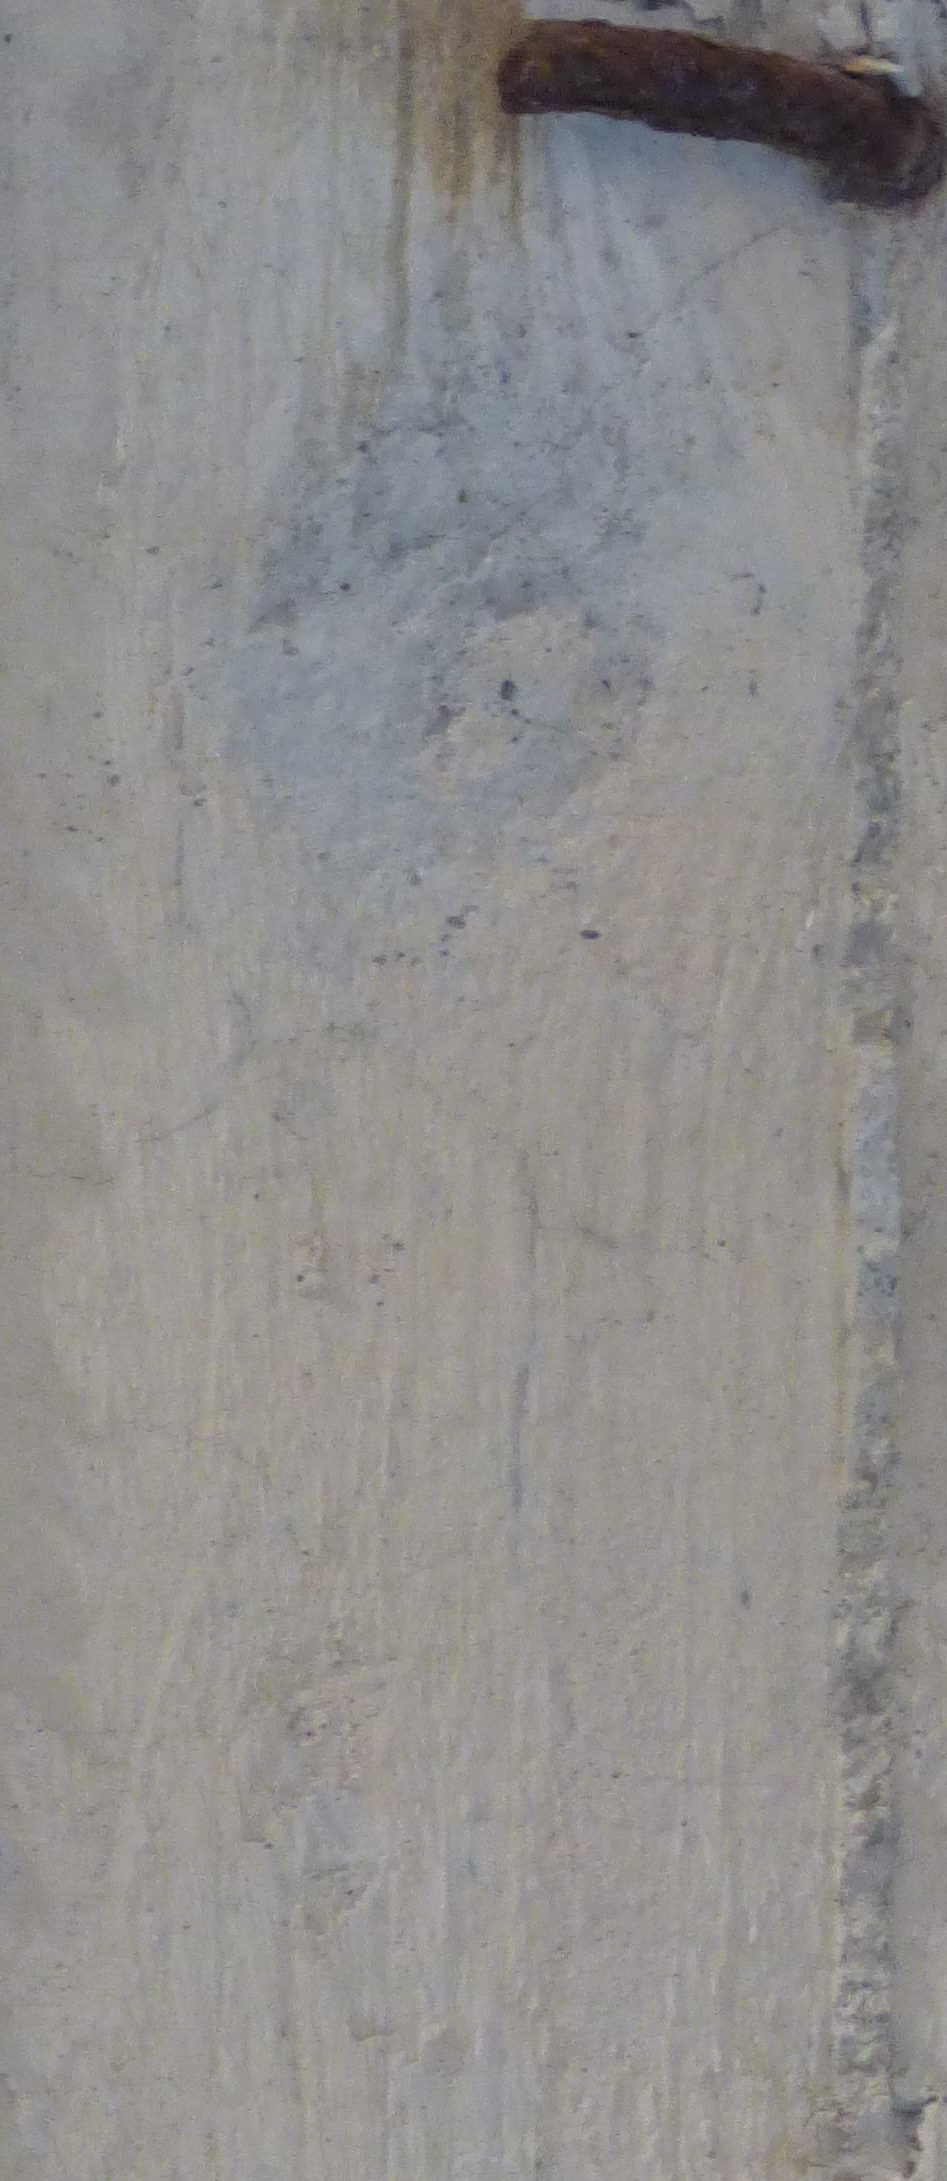Exposed reinforcement: (496, 19, 923, 178)
